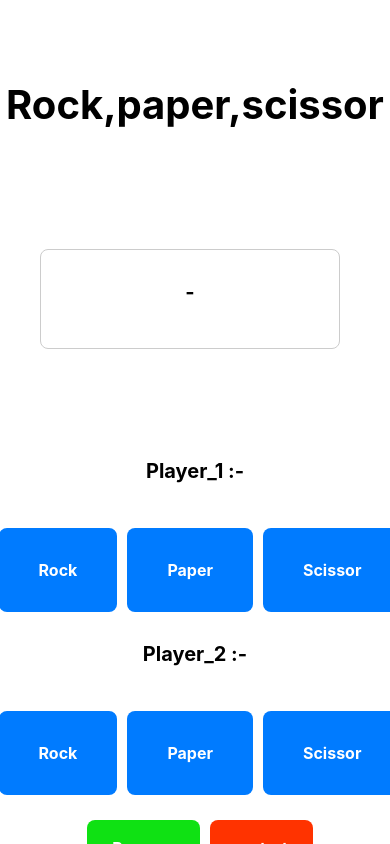
RPS_unit_Testing › test if nobody win
Click the element with test id "P1_btn_Paper": x=190, y=570 [127,528,253,612]
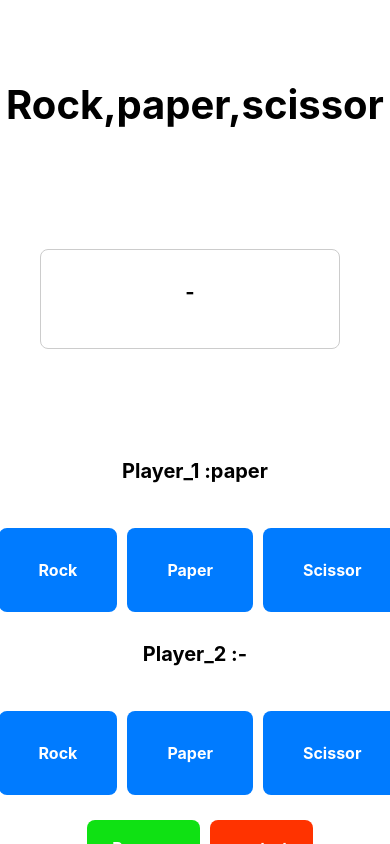
Click the element with test id "P2_btn_Paper": x=190, y=753 [127,711,253,795]
(page scrolled)
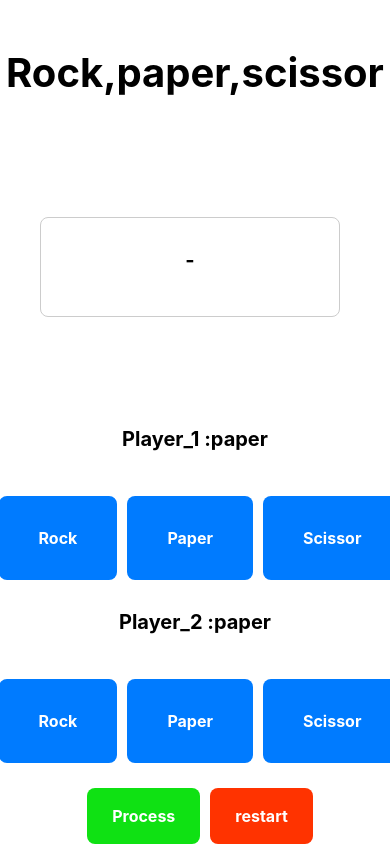
Click the element with test id "Process_btn": x=144, y=816 [87,788,200,843]
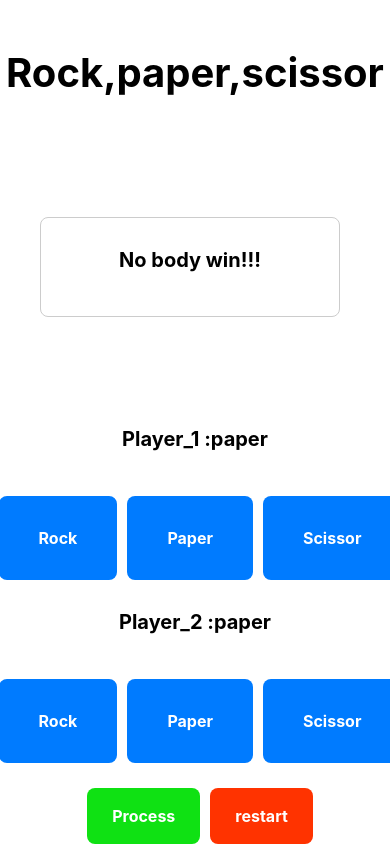
Expected: the text with test id "Winner_Text" reads "No body win!!!", [119,248,261,272]
